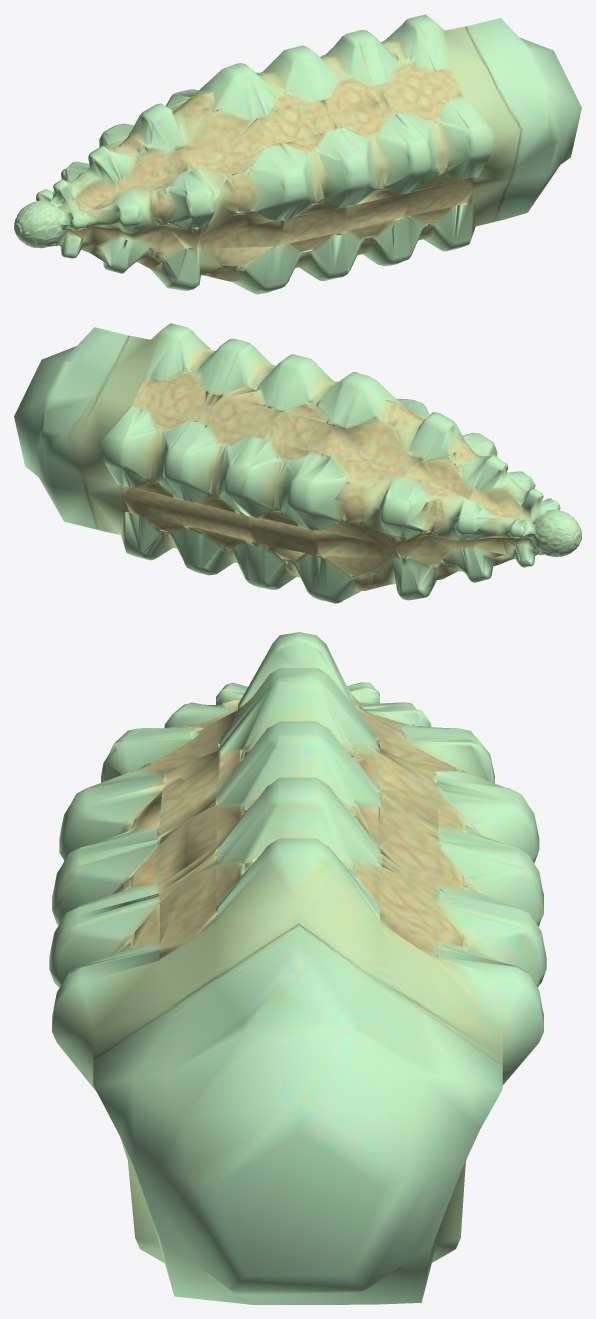
Rendered from speed_orb.glb.
The picture shows the model from 3 angles, top to bottom: view 1: azimuth 30°, elevation 25°; view 2: azimuth 150°, elevation 25°; view 3: azimuth 270°, elevation 25°; orthographic projection. The views are drawn at different scales.
Parts seen in each view (by area): view 1: tripo_node_6c5c47a0-638e-4c18-9c38-260d96167a72; view 2: tripo_node_6c5c47a0-638e-4c18-9c38-260d96167a72; view 3: tripo_node_6c5c47a0-638e-4c18-9c38-260d96167a72.
Part boxes in pixels (x1,y1,x2,y2): tripo_node_6c5c47a0-638e-4c18-9c38-260d96167a72: [14, 14, 581, 294]; tripo_node_6c5c47a0-638e-4c18-9c38-260d96167a72: [14, 323, 581, 603]; tripo_node_6c5c47a0-638e-4c18-9c38-260d96167a72: [49, 632, 546, 1304].
Bounding box in the file's own units: 0.998 × 0.3652 × 0.3965.
Materials: 1 (1 with a texture image).
